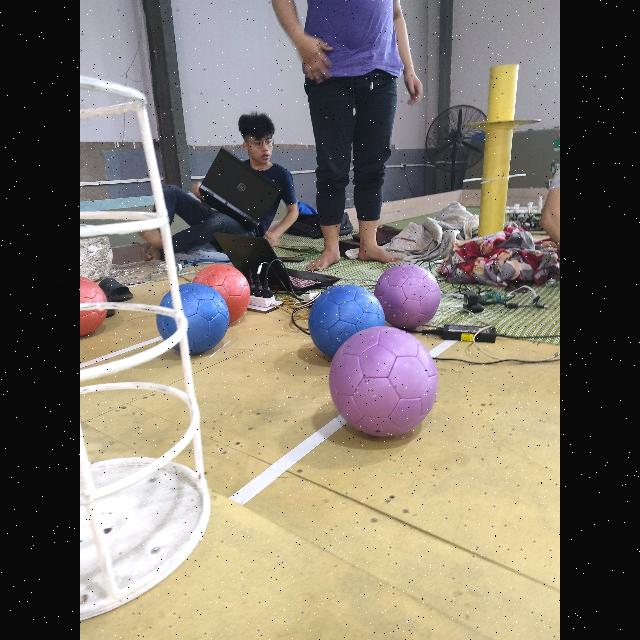B: (309, 284, 385, 356), (157, 282, 229, 354)
P: (330, 326, 438, 436), (375, 264, 441, 328)
R: (194, 264, 250, 322), (80, 274, 106, 338)
